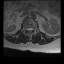CCS_normal: (28, 26, 30, 34)
LFS_normal: (32, 26, 34, 31)
LLS_normal: (30, 26, 32, 33)
RFS_normal: (24, 26, 26, 32)
RLS_normal: (26, 26, 28, 32)
